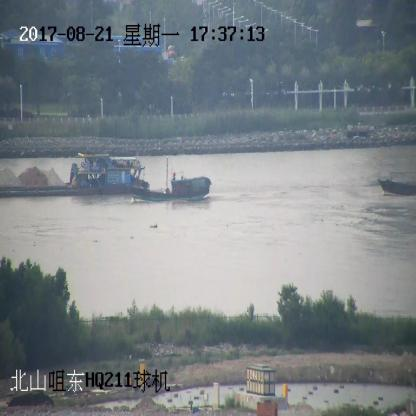Fishing Boat: (126, 157, 212, 203), (378, 171, 416, 197)
